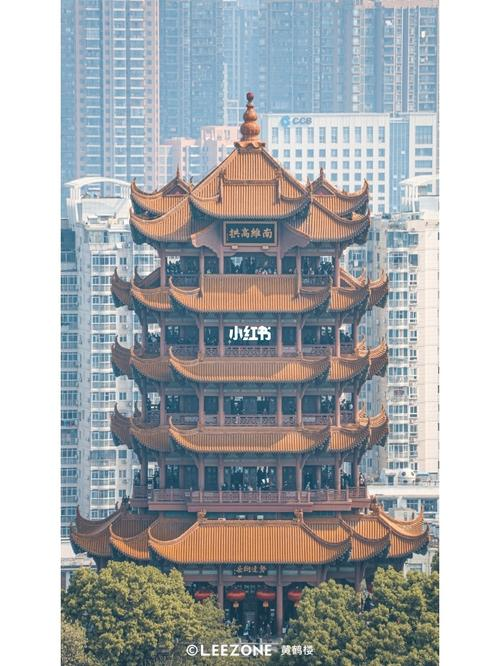buildings: (98, 75, 424, 577), (38, 178, 125, 558), (57, 22, 186, 214)
